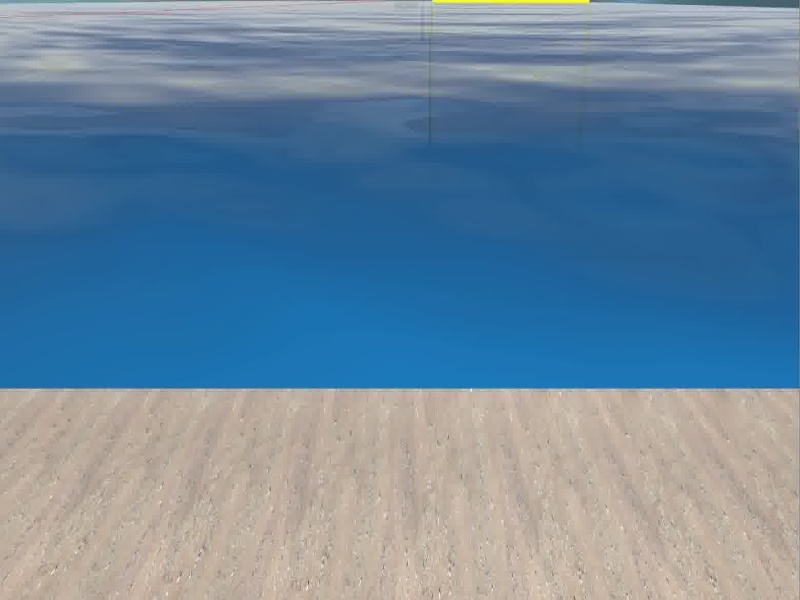gate: (424, 1, 596, 142)
